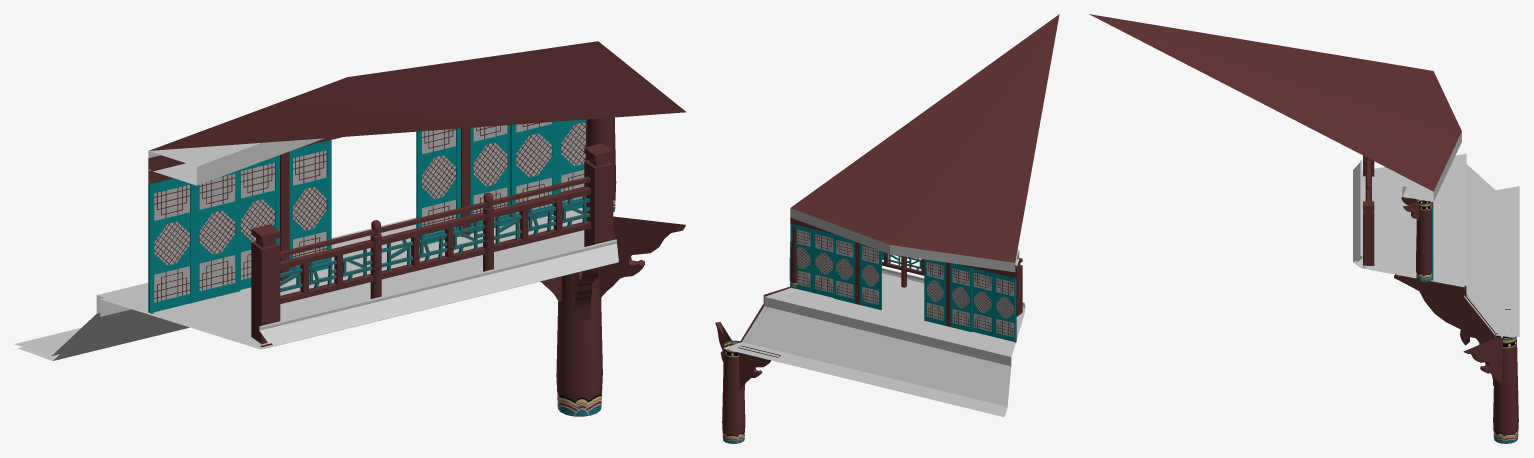
File: living_room_2nddoor.fbx
3 renders of one model, left to right at view 1: azimuth 30°, elevation 25°; view 2: azimuth 150°, elevation 25°; view 3: azimuth 270°, elevation 25°, orthographic. The views are drawn at different scales.
Visible parts, largest first — view 1: living_room_2nddoor; view 2: living_room_2nddoor; view 3: living_room_2nddoor.
Boxes of the visible parts, x1,y1,x2,y2 form: living_room_2nddoor: [14, 41, 686, 416]; living_room_2nddoor: [715, 14, 1059, 443]; living_room_2nddoor: [1089, 14, 1519, 443].
Size of the model in its own units: 1381 by 1351 by 1500.
